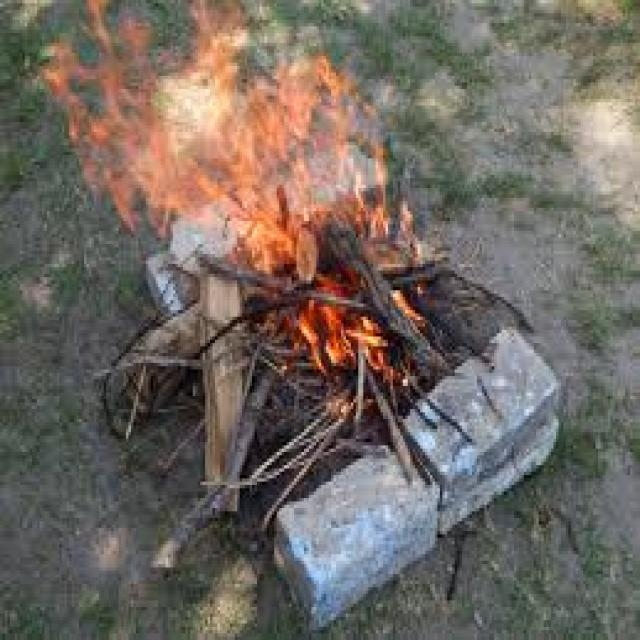fire: (39, 0, 220, 238), (220, 0, 385, 202), (238, 200, 415, 272), (297, 302, 387, 372)
